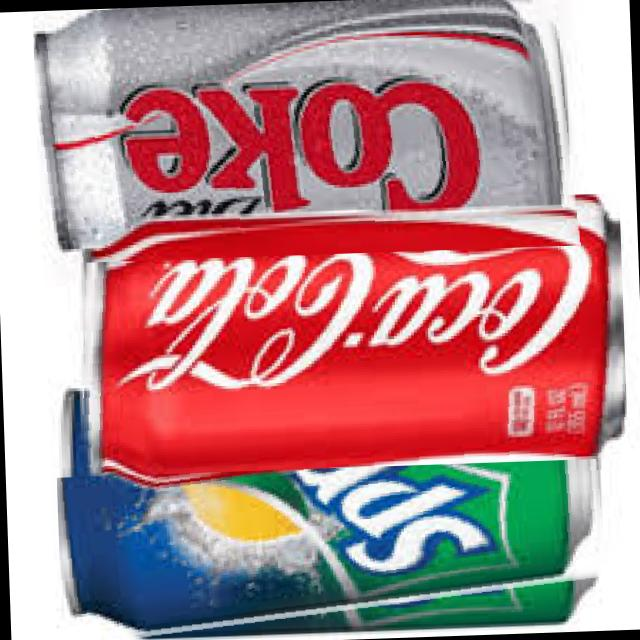Cans: (70, 192, 629, 506), (32, 0, 581, 263), (56, 457, 608, 640)
